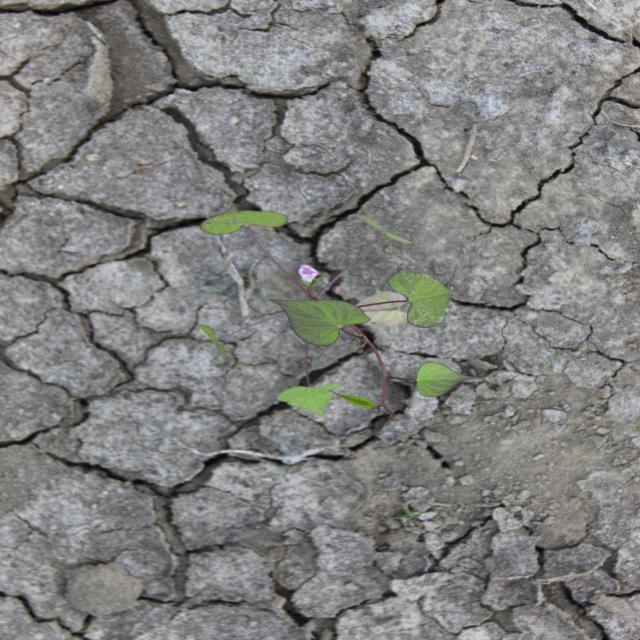MorningGlory: (197, 205, 483, 422)
